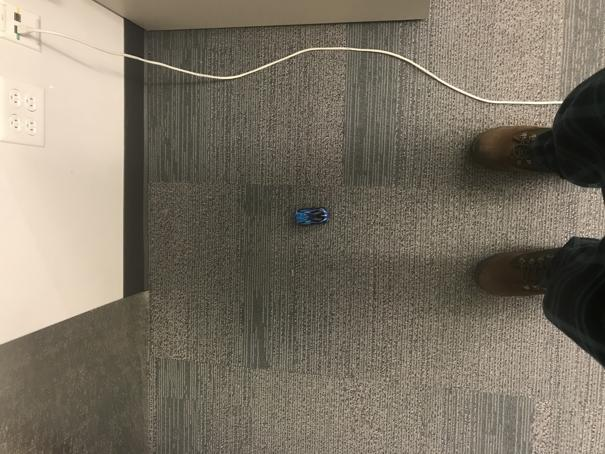Shock: (293, 206, 331, 228)
